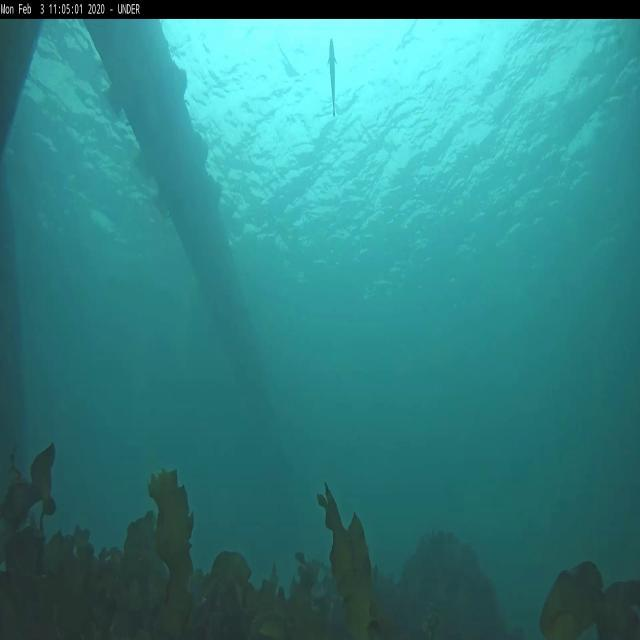fish: (326, 38, 339, 119)
